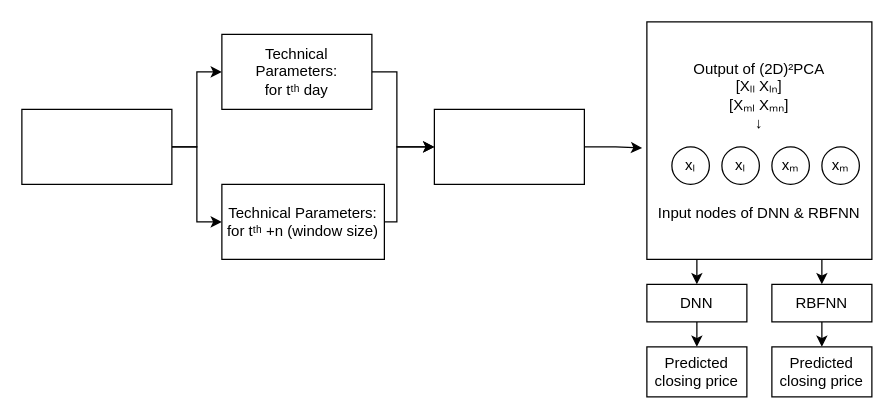
Some shapes in this 894 by 419 pixel diagram are drawn without their labels. The shapes that lost their labels are listed below. From the top down, each one's centre as x and y in pixels, then its label:
point (96, 146): Stock Market (NASDAQ) data
point (508, 146): (2D)²PCA
